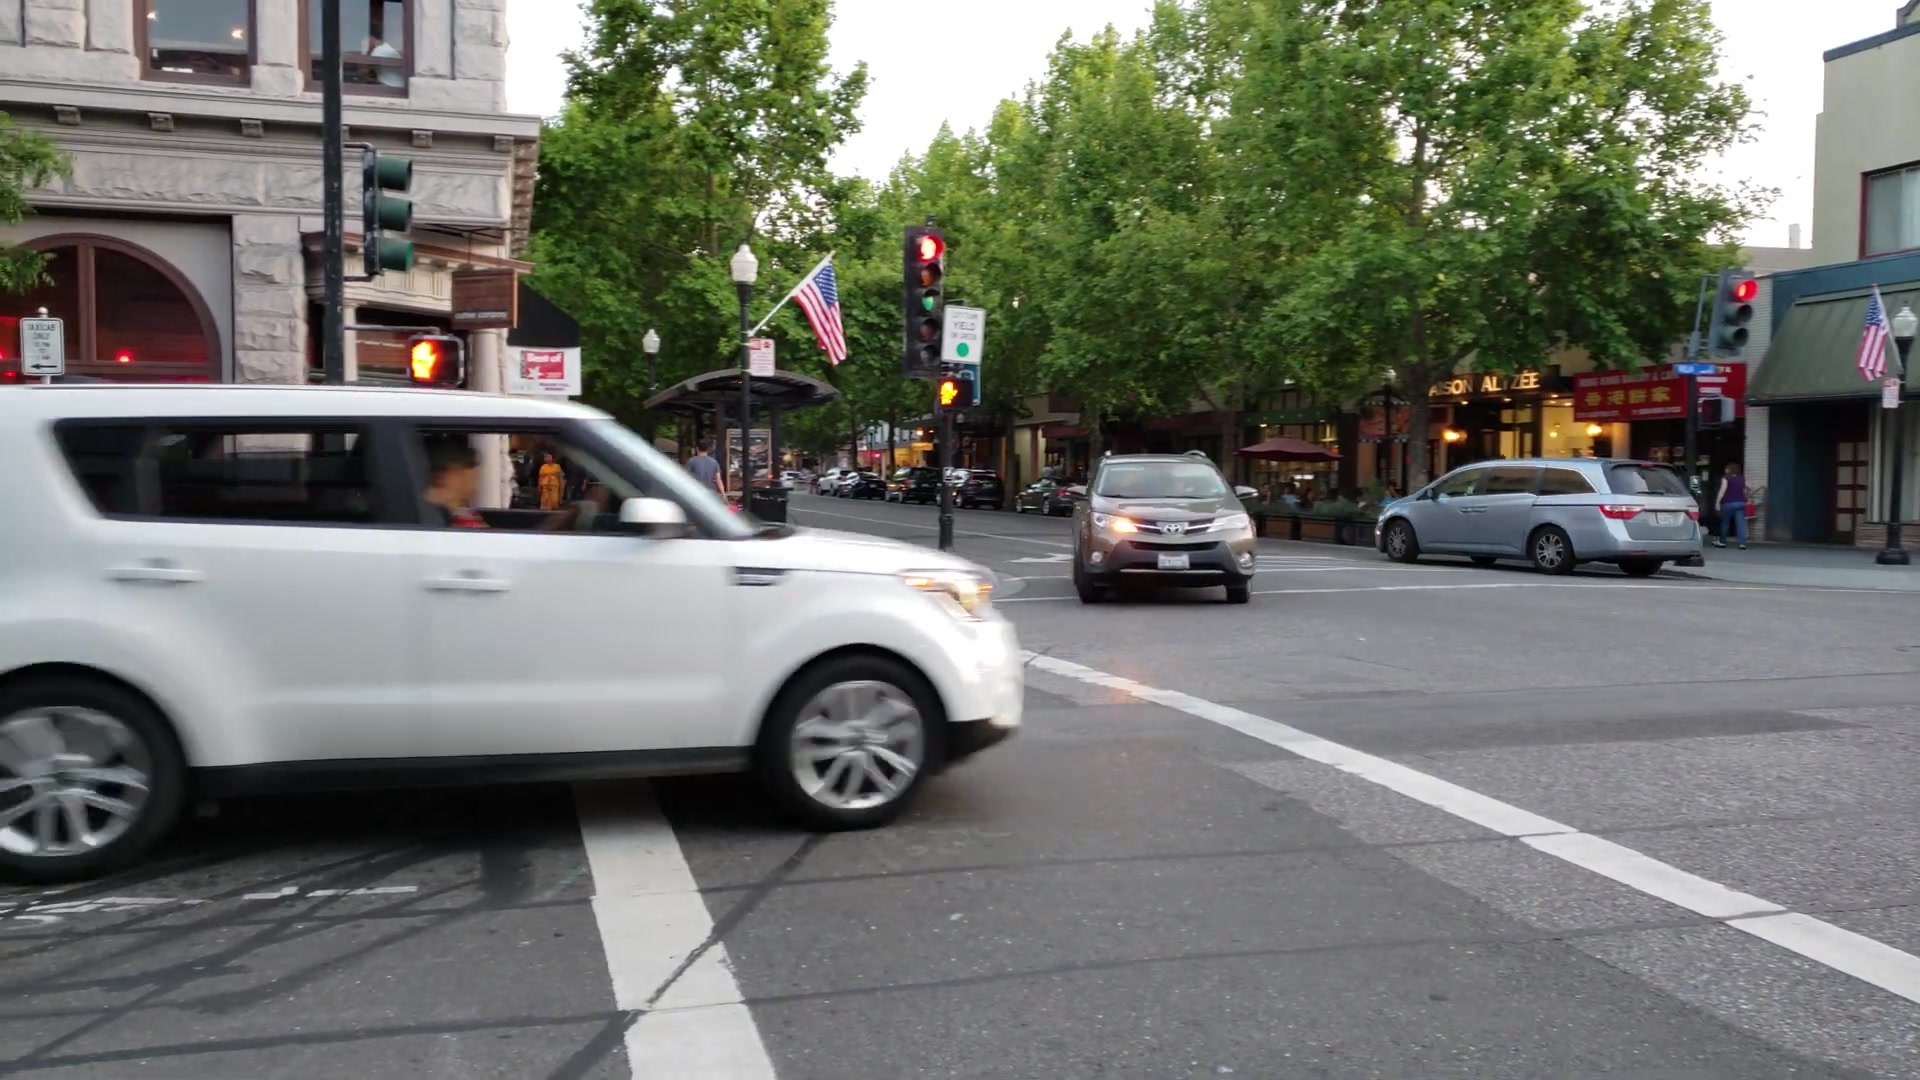vehicle: (1, 382, 1026, 891), (1371, 459, 1702, 579), (1073, 450, 1259, 605)
